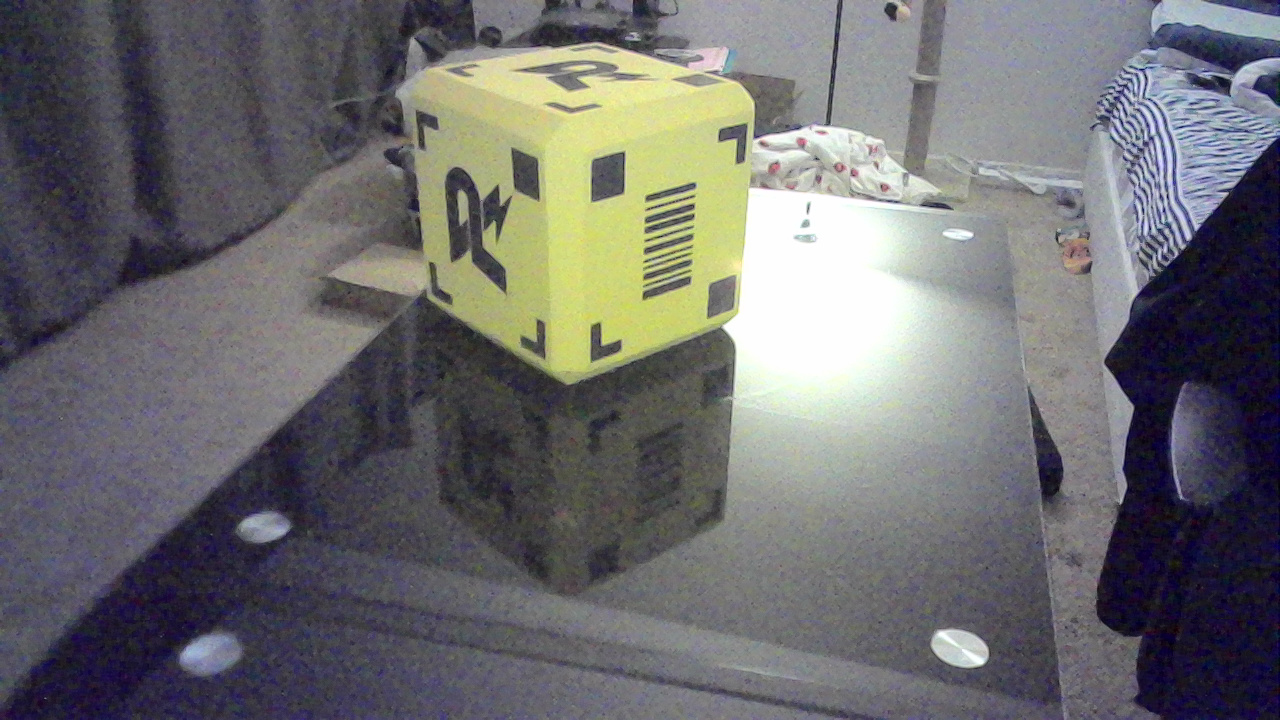Barcode: (643, 178, 702, 312)
R: (435, 169, 526, 302), (515, 59, 651, 111)
